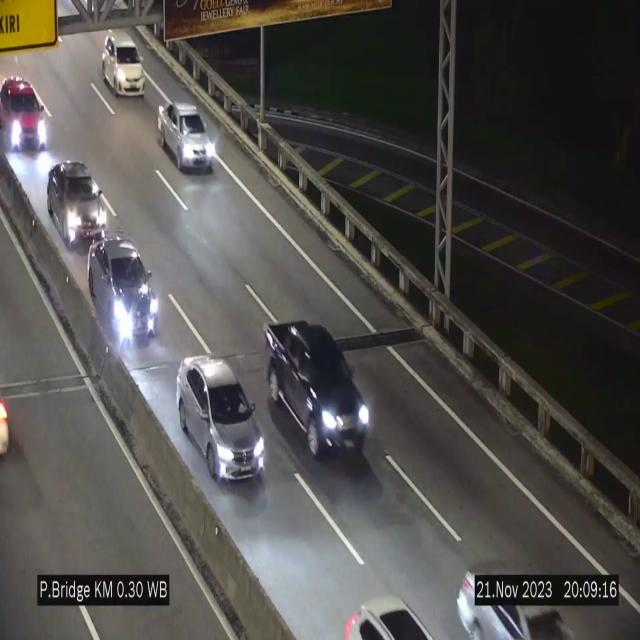Car: (268, 323, 368, 465), (454, 553, 600, 640), (177, 355, 265, 481), (85, 233, 162, 345), (46, 156, 106, 244), (342, 594, 444, 640), (0, 70, 48, 156), (157, 101, 215, 171), (103, 30, 145, 97)
